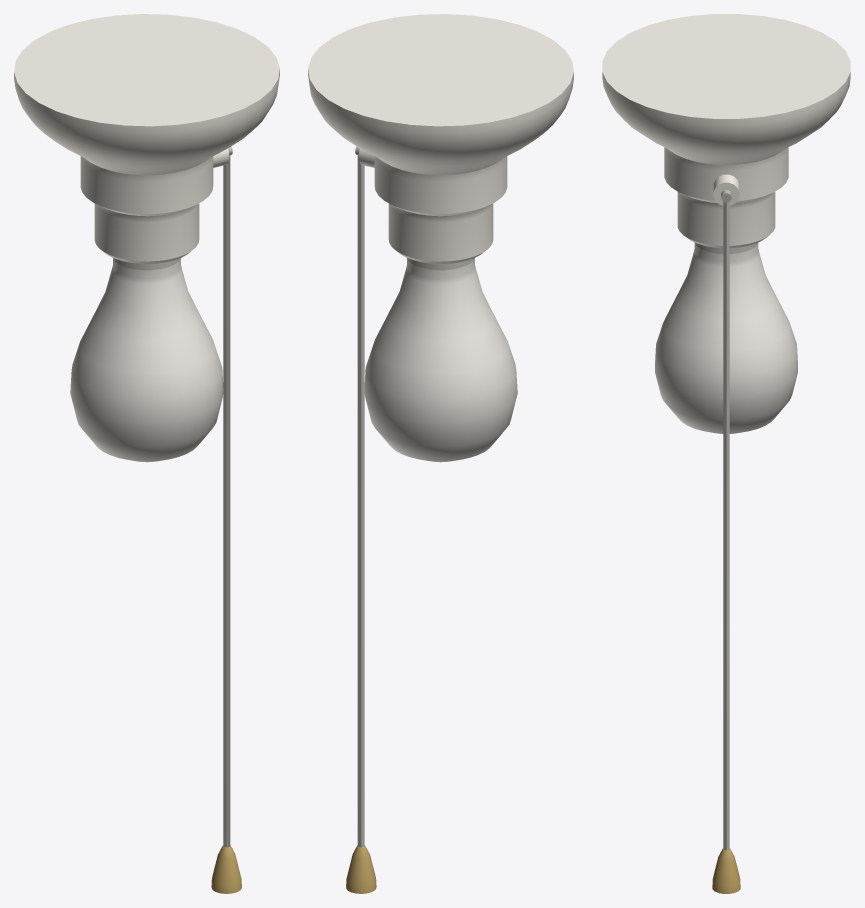
Rendered from ceiling_off.obj.
The picture shows the model from 3 angles, left to right: view 1: azimuth 30°, elevation 25°; view 2: azimuth 150°, elevation 25°; view 3: azimuth 270°, elevation 25°; orthographic projection. The views are drawn at different scales.
Parts seen in each view (by area): view 1: ceiling_porcelain, ceiling_bulb_off, ceiling_chain, ceiling_pull; view 2: ceiling_porcelain, ceiling_bulb_off, ceiling_chain, ceiling_pull; view 3: ceiling_porcelain, ceiling_bulb_off, ceiling_chain, ceiling_pull, ceiling_boss.
Boxes of the visible parts, x1,y1,x2,y2 form: ceiling_porcelain: (14, 14, 279, 263); ceiling_bulb_off: (70, 259, 223, 462); ceiling_chain: (223, 155, 230, 847); ceiling_pull: (211, 845, 241, 893); ceiling_porcelain: (308, 14, 573, 263); ceiling_bulb_off: (364, 259, 517, 462); ceiling_chain: (357, 155, 364, 847); ceiling_pull: (346, 845, 376, 893); ceiling_porcelain: (602, 14, 850, 248); ceiling_bulb_off: (655, 243, 797, 433); ceiling_chain: (723, 196, 729, 850); ceiling_pull: (712, 848, 740, 893); ceiling_boss: (713, 174, 739, 205).
Size of the model in its own units: 0.1035 by 0.361 by 0.1035.
